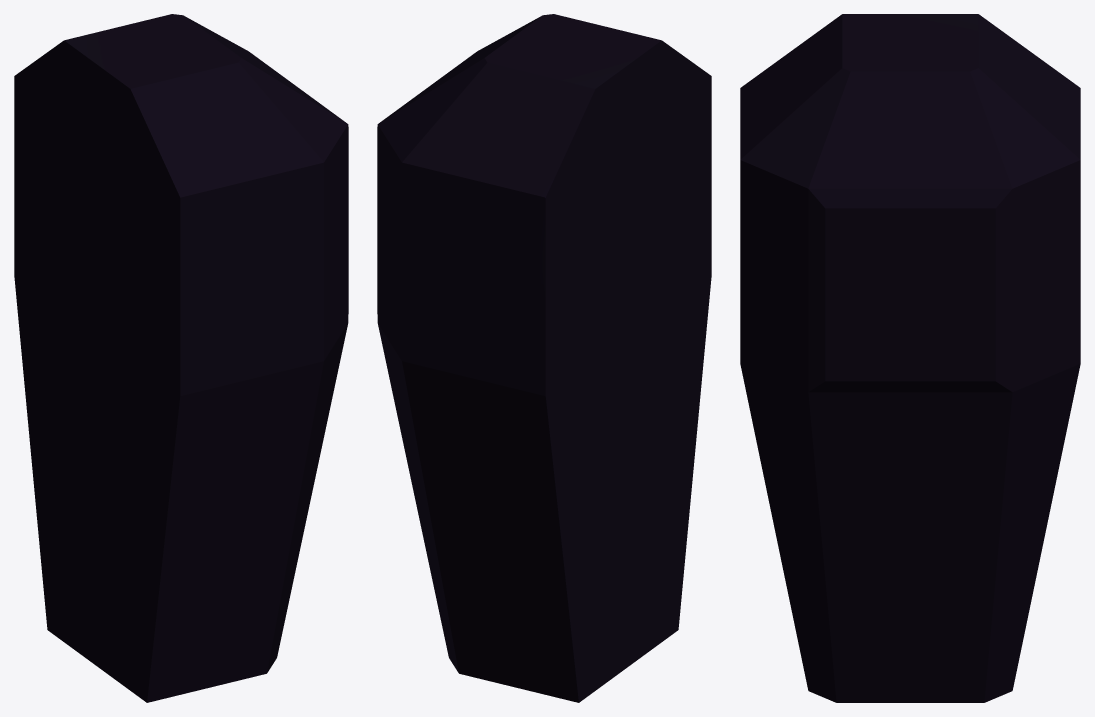
Rendered from space_coffin.glb.
The picture shows the model from 3 angles, left to right: view 1: azimuth 30°, elevation 25°; view 2: azimuth 150°, elevation 25°; view 3: azimuth 270°, elevation 25°; orthographic projection. The views are drawn at different scales.
Parts seen in each view (by area): view 1: Cube; view 2: Cube; view 3: Cube.
Boxes of the visible parts, box(x1,y1,x2,y2) form: Cube: box(14, 14, 348, 702); Cube: box(377, 14, 711, 702); Cube: box(740, 14, 1080, 702).
Bounding box in the file's own units: 1.46 × 4 × 2.
Materials: 1 (1 with a texture image).
